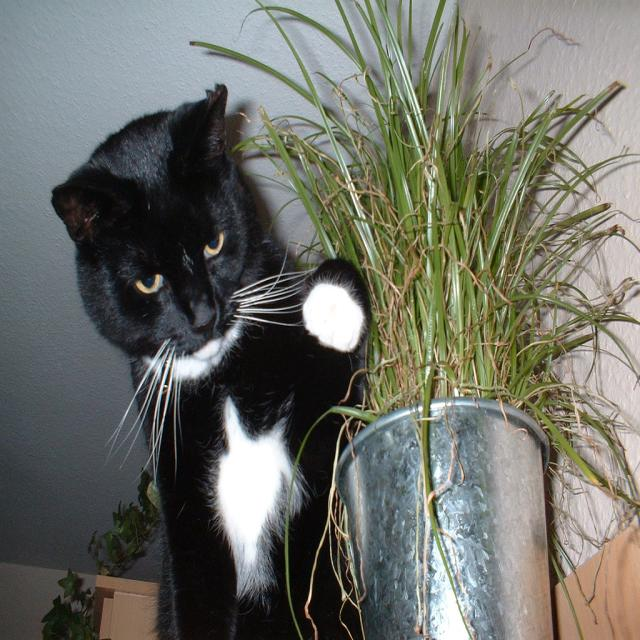left eye: (202, 228, 226, 259)
